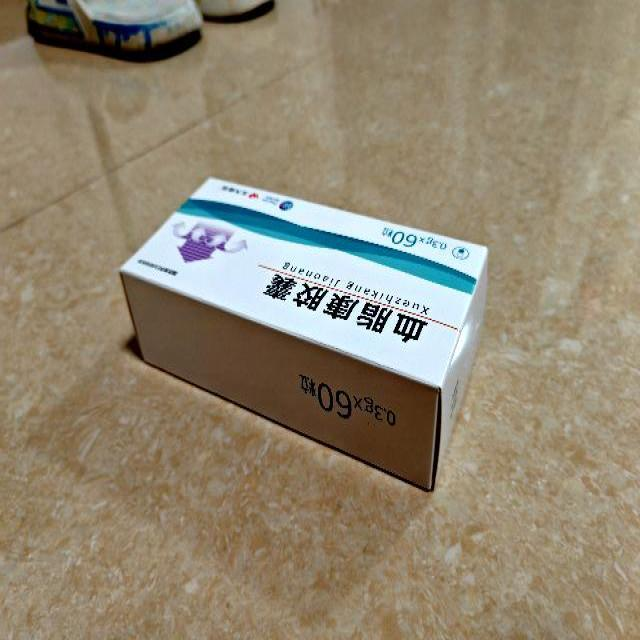box: (121, 176, 487, 492)
